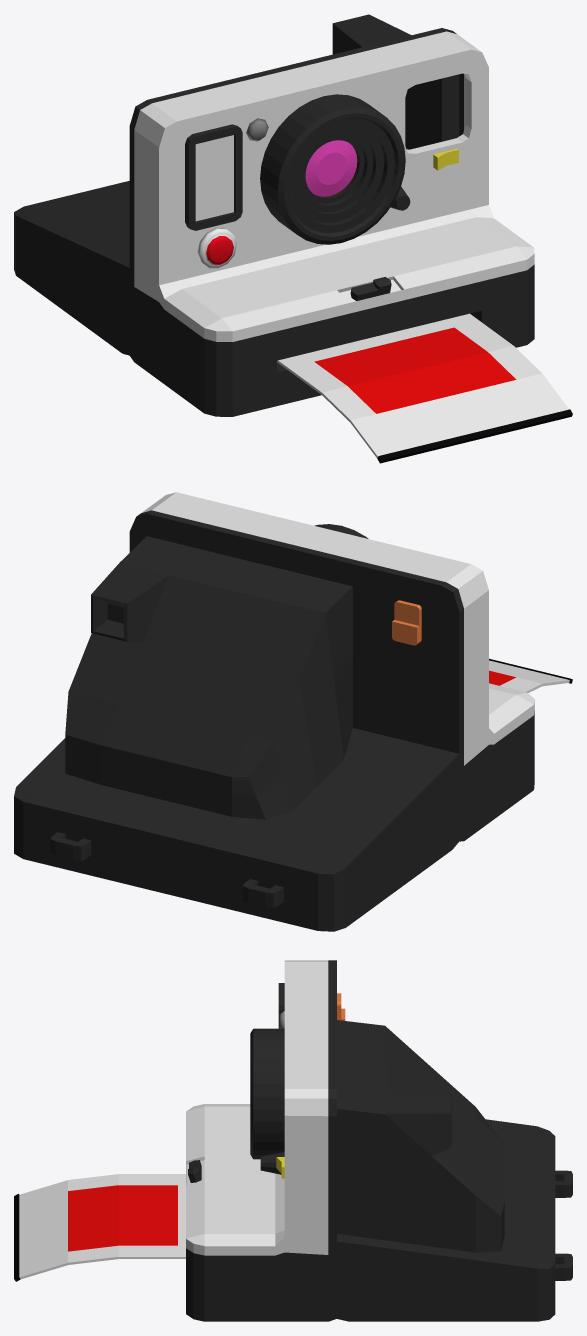
The model's file is Low_Poly_Hand_Camera.glb.
3 views of the same model, one above another, from view 1: azimuth 30°, elevation 25°; view 2: azimuth 150°, elevation 25°; view 3: azimuth 270°, elevation 25° (orthographic). The views are drawn at different scales.
Visible parts, largest first — view 1: Cube_WhitePlastic_0, Cube_BlackPlastic_0, Cylinder_BlackPlastic_0, Cube.003_PhotoCover_0, Cube.004_MainPhoto_0, Cube.007_BlackPlastic_0, Cylinder_Lenz_0, Cube.003_PhotoSide_0, Cylinder.001_WhitePlastic_0, Cube.006_BlackPlastic_0, Cylinder.001_RedButton_0; view 2: Cube_BlackPlastic_0, Cube_WhitePlastic_0, Cube.005_BlackPlastic_0, Cube.001_OnOff_0, Cube.003_PhotoCover_0; view 3: Cube_BlackPlastic_0, Cube_WhitePlastic_0, Cube.003_PhotoCover_0, Cube.004_MainPhoto_0, Cylinder_BlackPlastic_0, Cube.005_BlackPlastic_0, Cube.003_PhotoSide_0.
Part boxes in pixels (<box>): Cube_WhitePlastic_0: <box>134,31,534,341</box>; Cube_BlackPlastic_0: <box>14,14,534,416</box>; Cylinder_BlackPlastic_0: <box>260,94,405,244</box>; Cube.003_PhotoCover_0: <box>277,313,568,458</box>; Cube.004_MainPhoto_0: <box>314,327,516,413</box>; Cube.007_BlackPlastic_0: <box>185,124,242,230</box>; Cylinder_Lenz_0: <box>305,140,357,196</box>; Cube.003_PhotoSide_0: <box>377,409,572,463</box>; Cylinder.001_WhitePlastic_0: <box>197,228,236,268</box>; Cube.006_BlackPlastic_0: <box>350,277,391,300</box>; Cylinder.001_RedButton_0: <box>206,236,233,264</box>; Cube_BlackPlastic_0: <box>14,510,534,931</box>; Cube_WhitePlastic_0: <box>142,492,534,765</box>; Cube.005_BlackPlastic_0: <box>50,832,283,907</box>; Cube.001_OnOff_0: <box>392,600,421,645</box>; Cube.003_PhotoCover_0: <box>489,660,569,692</box>; Cube_BlackPlastic_0: <box>186,960,555,1321</box>; Cube_WhitePlastic_0: <box>186,960,328,1255</box>; Cube.003_PhotoCover_0: <box>19,1174,185,1279</box>; Cube.004_MainPhoto_0: <box>68,1185,177,1251</box>; Cylinder_BlackPlastic_0: <box>250,1028,284,1159</box>; Cube.005_BlackPlastic_0: <box>555,1170,572,1280</box>; Cube.003_PhotoSide_0: <box>14,1194,20,1281</box>.
Size of the model in its own units: 3.44 by 2.54 by 5.71.
